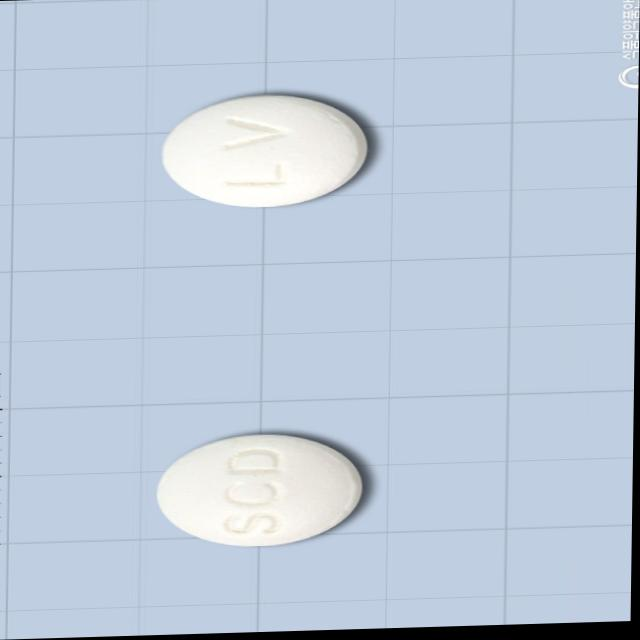Clad: (157, 431, 366, 550), (157, 92, 368, 209)
